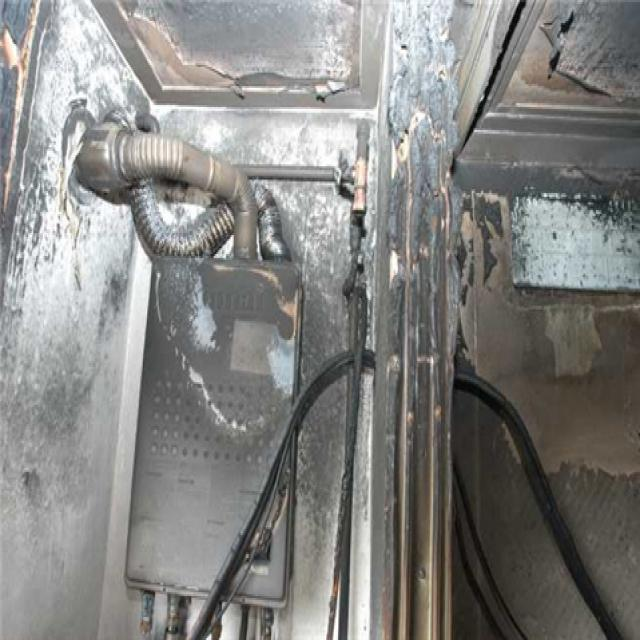Boiler: (104, 220, 310, 632)
